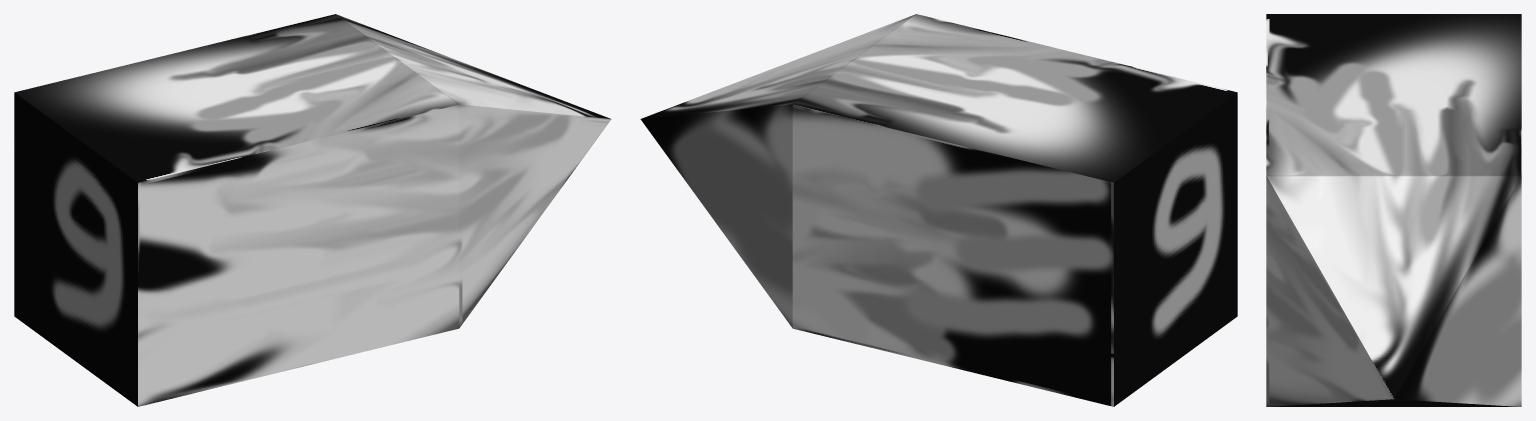
File: bullet.fbx
3 renders of one model, left to right at view 1: azimuth 30°, elevation 25°; view 2: azimuth 150°, elevation 25°; view 3: azimuth 270°, elevation 25°, orthographic. The views are drawn at different scales.
Parts seen in each view (by area): view 1: 立方体; view 2: 立方体; view 3: 立方体.
Boxes of the visible parts, x1,y1,x2,y2 form: 立方体: (14, 14, 611, 406); 立方体: (640, 14, 1237, 406); 立方体: (1266, 14, 1521, 406).
Size of the model in its own units: 500 by 200 by 200.
1 material, 1 textured.
